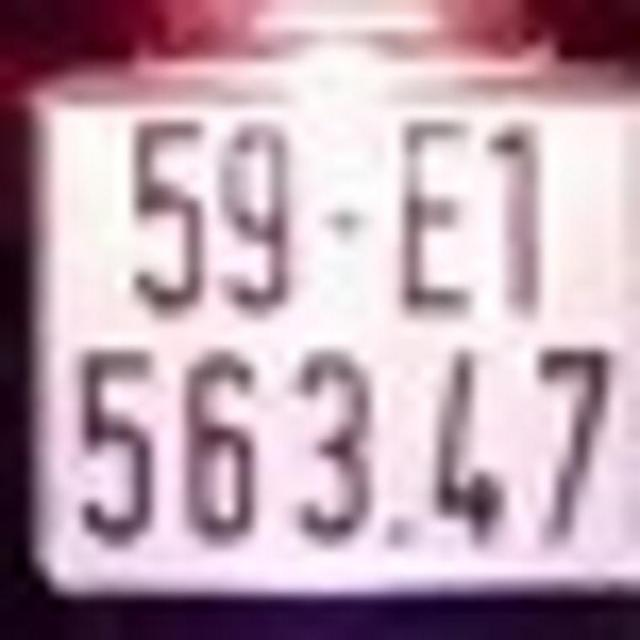1: (487, 116, 547, 327)
3: (293, 344, 377, 546)
4: (431, 339, 508, 552)
5: (76, 342, 154, 548), (128, 114, 205, 313)
6: (180, 346, 261, 544)
7: (530, 340, 616, 551)
9: (216, 118, 292, 324)
E: (398, 107, 480, 319)
